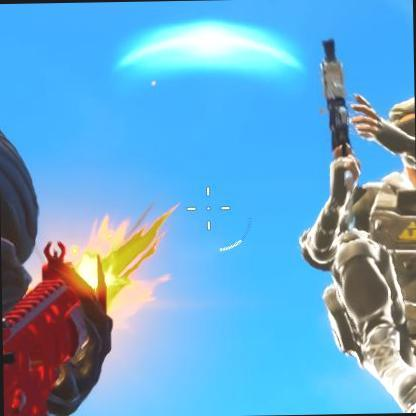person: (319, 110, 416, 402)
